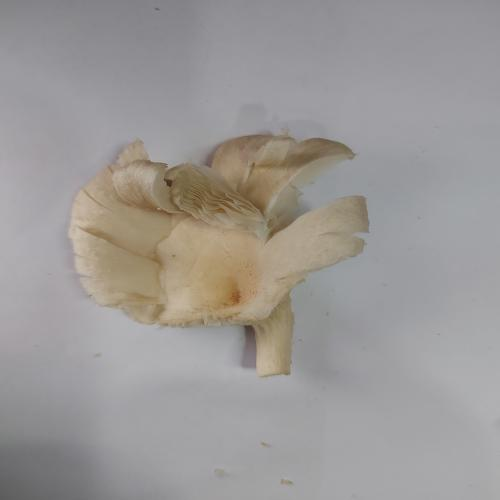Oyster Mushroom: (67, 129, 370, 378)
